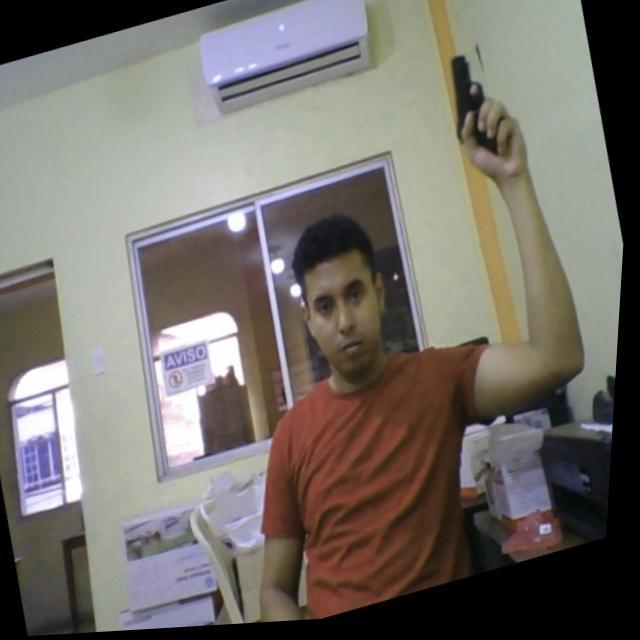weapon: (438, 49, 511, 172)
